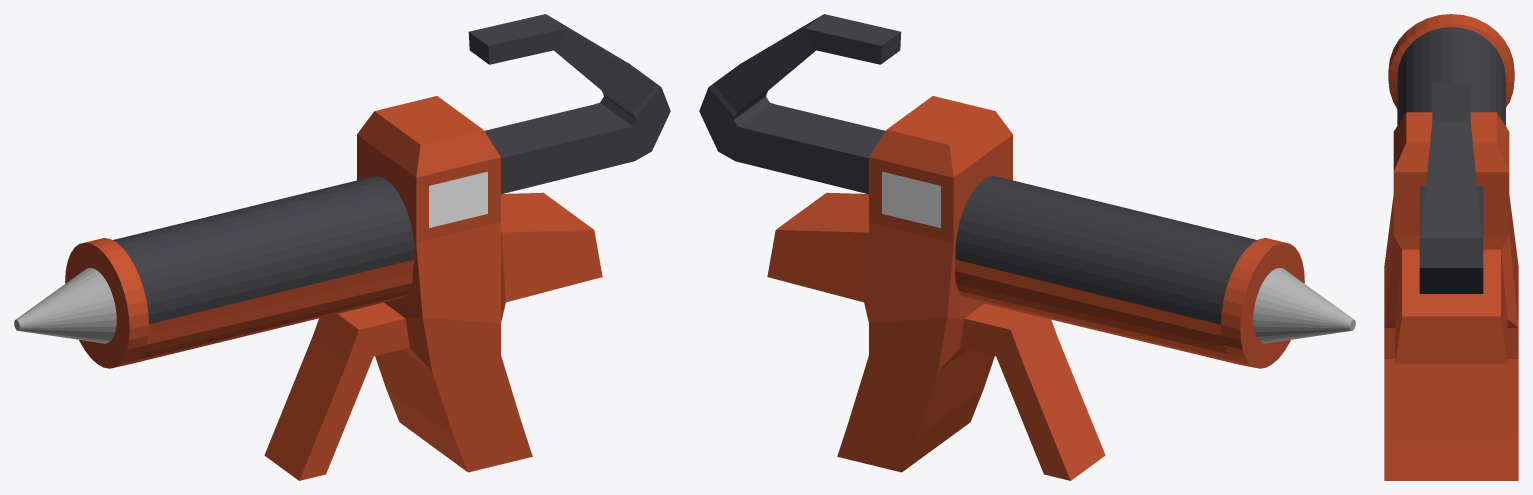
The model's file is caulkgun-2.fbx.
3 views of the same model, side by side, from view 1: azimuth 30°, elevation 25°; view 2: azimuth 150°, elevation 25°; view 3: azimuth 270°, elevation 25° (orthographic). The views are drawn at different scales.
Parts seen in each view (by area): view 1: caulkgun; view 2: caulkgun; view 3: caulkgun.
Boxes of the visible parts, <box> form: caulkgun: <box>14,14,670,480</box>; caulkgun: <box>699,14,1355,480</box>; caulkgun: <box>1384,14,1518,480</box>.
Size of the model in its own units: 196 by 117 by 36.55.
